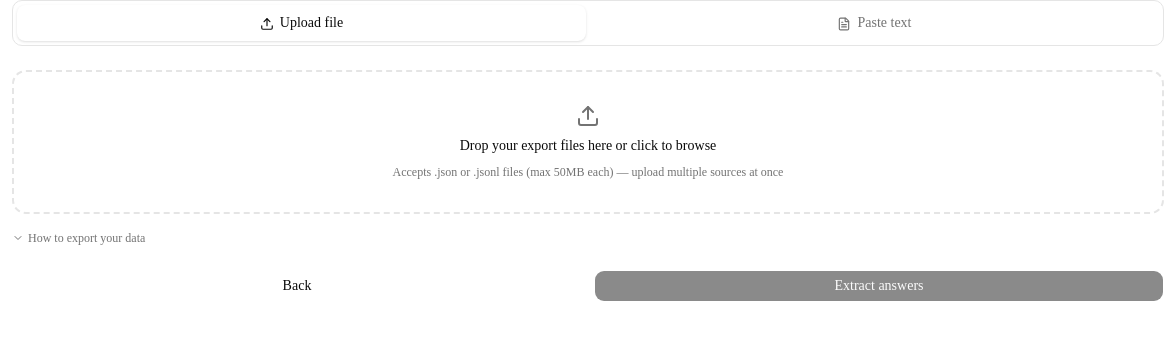
Test case: MemoryImport › switches to paste tab
The width and height of the screenshot is (1176, 348).
Click the button "Paste text". click: (874, 23)
box: [590,5,1159,41]
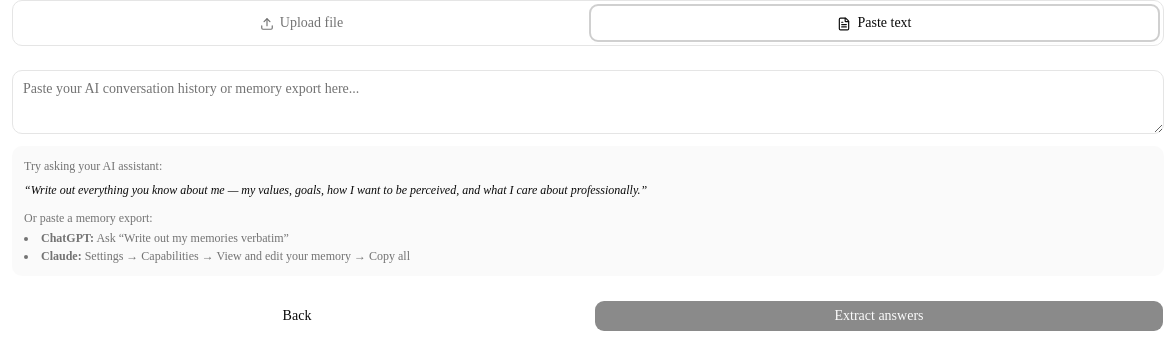
Now the text box with placeholder "Paste your AI conversation history or memory export here..." is shown, box [12,70,1164,134]
